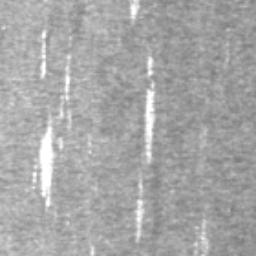White rust: (31, 64, 72, 208), (143, 80, 159, 164), (134, 173, 145, 243), (39, 29, 49, 80), (128, 0, 142, 26), (201, 217, 208, 256), (147, 56, 155, 77), (89, 243, 95, 256), (67, 35, 72, 49)
